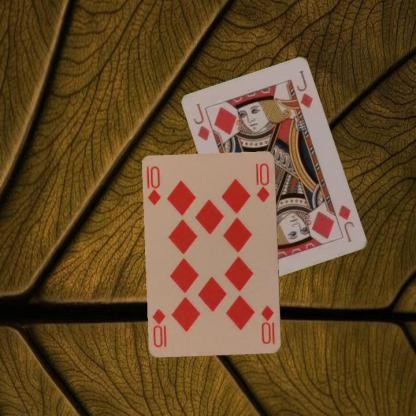10d: (258, 301, 276, 346), (144, 164, 162, 206)
Jd: (330, 201, 356, 244), (190, 99, 213, 143)
